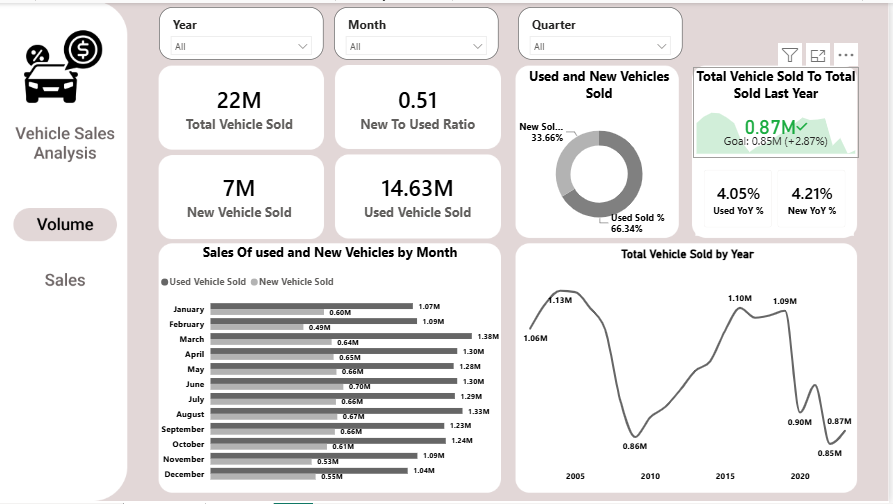

The page's visual inventory and layout, read from the dashboard file:
{"tool":"powerbi","page":{"name":"Volume","canvas":[1280,720],"ordinal":0},"visuals":[{"type":"cardVisual","fields":{"Data":["Measures .Total Vehicle Sold"]},"box":[226.4,86.4,237.3,130],"z":0},{"type":"cardVisual","fields":{"Data":["Volume Measures.New Vehicle Sold"]},"box":[226.4,216.4,237.3,123.6],"z":1000},{"type":"cardVisual","fields":{"Data":["Volume Measures.Used Vehicle Sold"]},"box":[481.8,216.4,238.2,123.6],"z":2000},{"type":"cardVisual","fields":{"Data":["Measures .New To Used Ratio"]},"box":[481.8,86.4,238.2,130],"z":3000},{"type":"lineChart","fields":{"Category":["DimDate.Date.Variation.Date Hierarchy.Year"],"Y":["Measures .Total Vehicle Sold"]},"box":[745,351.2,491.2,348.8],"z":4000},{"type":"donutChart","title":"Used and New Vehicles Sold","fields":{"Y":["Measures .Used Vehicle Sold %","Measures .New Vehicle Sold %"]},"box":[745.5,92.7,233.6,247.3],"z":5000},{"type":"clusteredBarChart","title":"Sales Of used and New Vehicles by Month","fields":{"Category":["DimDate.Date.Variation.Date Hierarchy.Month"],"Y":["Measures .Used Vehicle Sold","Measures .New Vehicle Sold"]},"box":[226.7,345,498.3,355],"z":6000},{"type":"slicer","fields":{"Values":["DimDate.Date.Variation.Date Hierarchy.Year"]},"box":[228.8,5.4,237,76],"z":7000},{"type":"slicer","fields":{"Values":["DimDate.Date.Variation.Date Hierarchy.Month"]},"box":[480.9,5.4,237,76],"z":8000},{"type":"slicer","fields":{"Values":["DimDate.Quarter"]},"box":[745.5,5.4,237,76],"z":9000},{"type":"kpi","title":"Total Vehicle Sold To Total Sold Last Year","fields":{"Goal":["Volume Measures.Total Sales Prevoius year"],"TrendLine":["DimDate.Year"],"Indicator":["Volume Measures.Total Vehicle Sold"]},"box":[997.5,92.5,238.8,130],"z":10000},{"type":"cardVisual","fields":{"Data":["Volume Measures.Used YoY %","Volume Measures.New YoY %"]},"box":[997.1,222.9,238.6,117.1],"z":11000},{"type":"shape","box":[17.1,370,151.4,54.3],"z":12000}]}

Visuals, with their boxes in screenshot pixels (x1, y1, x2, y2), scaled from the page's 1280x720 canvas onto the 893x504 screenshot:
cardVisual - Measures .Total Vehicle Sold: [158,60,324,151]
cardVisual - Volume Measures.New Vehicle Sold: [158,151,324,238]
cardVisual - Volume Measures.Used Vehicle Sold: [336,151,502,238]
cardVisual - Measures .New To Used Ratio: [336,60,502,151]
lineChart - DimDate.Date.Variation.Date Hierarchy.Year x Measures .Total Vehicle Sold: [520,246,862,490]
"Used and New Vehicles Sold" donutChart: [520,65,683,238]
"Sales Of used and New Vehicles by Month" clusteredBarChart: [158,241,506,490]
slicer - DimDate.Date.Variation.Date Hierarchy.Year: [160,4,325,57]
slicer - DimDate.Date.Variation.Date Hierarchy.Month: [336,4,501,57]
slicer - DimDate.Quarter: [520,4,685,57]
"Total Vehicle Sold To Total Sold Last Year" kpi: [696,65,863,156]
cardVisual - Volume Measures.Used YoY % x Volume Measures.New YoY %: [696,156,862,238]
shape: [12,259,118,297]
